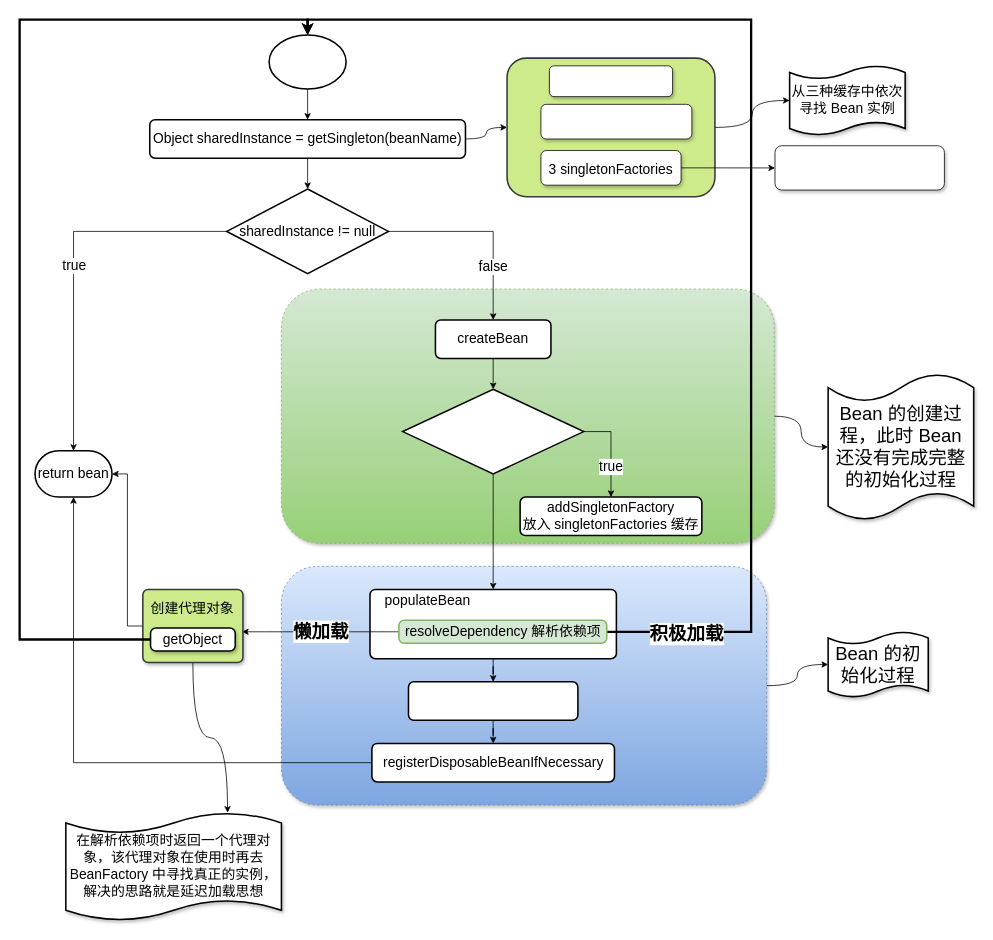
This 993x940 diagram has some shape labels left out. The centre of each missing label's shape, as x and y in pixels:
1 singletonObjects: point 611,82
2 earlySingletonObjects: point 616,122
doGetBean: point 307,61
earlySingletonExposure: point 493,431
getEarlyBeanReference: point 860,168
initializeBean: point 492,701
